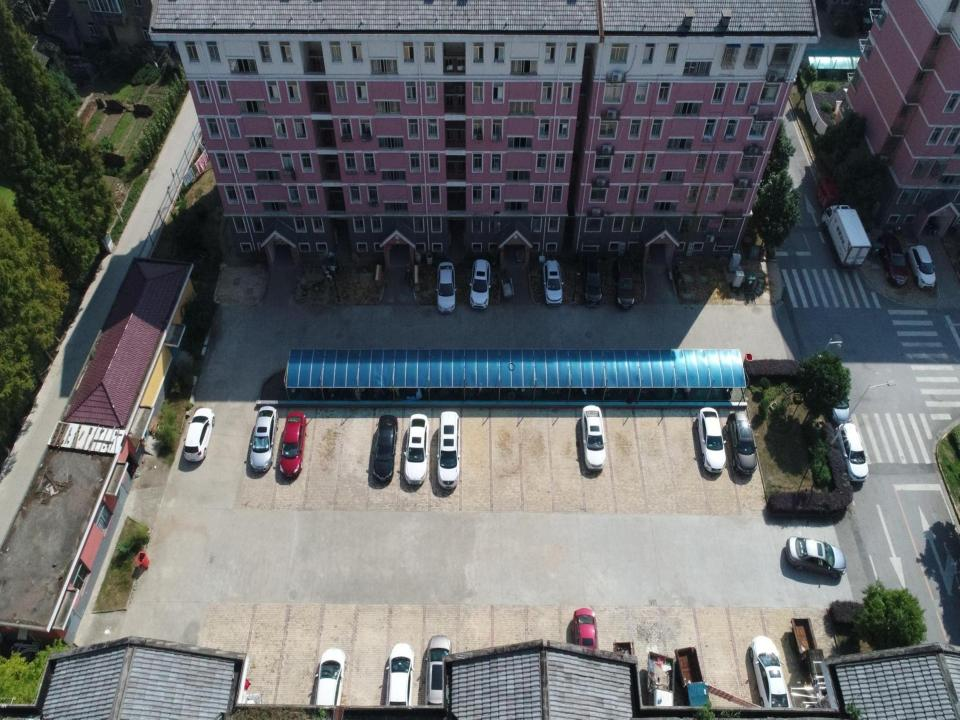car: (749, 635, 792, 719), (785, 536, 846, 577), (312, 647, 345, 719), (424, 636, 453, 716), (385, 643, 415, 717), (726, 411, 758, 475), (696, 407, 726, 472), (835, 423, 868, 482), (403, 413, 430, 485), (250, 406, 279, 472), (279, 411, 307, 478), (372, 414, 398, 483), (581, 405, 607, 471), (183, 408, 215, 461), (878, 232, 909, 286), (572, 608, 599, 668), (824, 369, 850, 424), (908, 244, 936, 288), (581, 253, 603, 307), (469, 258, 491, 310), (436, 261, 457, 314), (614, 256, 635, 308), (543, 259, 564, 306)
truck: (822, 204, 873, 268), (674, 645, 712, 717), (647, 652, 675, 715)
van: (437, 411, 460, 489)
